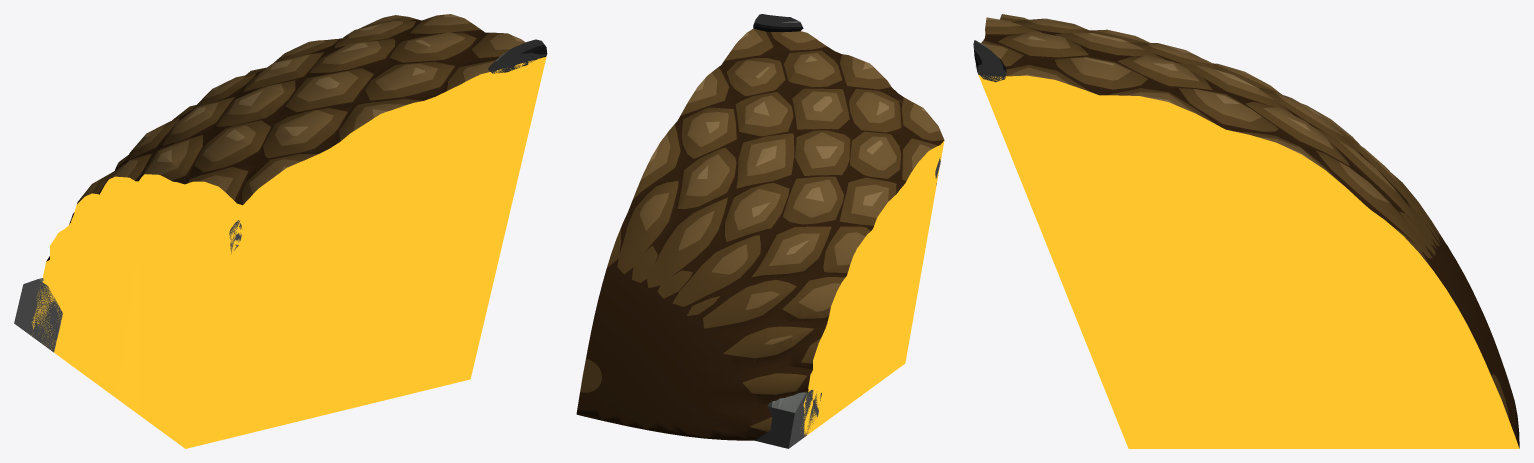
The model's file is pineapple_159.glb.
The picture shows the model from 3 angles, left to right: view 1: azimuth 30°, elevation 25°; view 2: azimuth 150°, elevation 25°; view 3: azimuth 270°, elevation 25°; orthographic projection. The views are drawn at different scales.
Visible parts, largest first — view 1: pineapple_159; view 2: pineapple_159; view 3: pineapple_159.
Boxes of the visible parts, box(x1,y1,x2,y2) form: pineapple_159: box(14, 14, 547, 448); pineapple_159: box(576, 14, 944, 448); pineapple_159: box(973, 14, 1519, 448).
Bounding box in the file's own units: 24 × 31.43 × 40.25.
